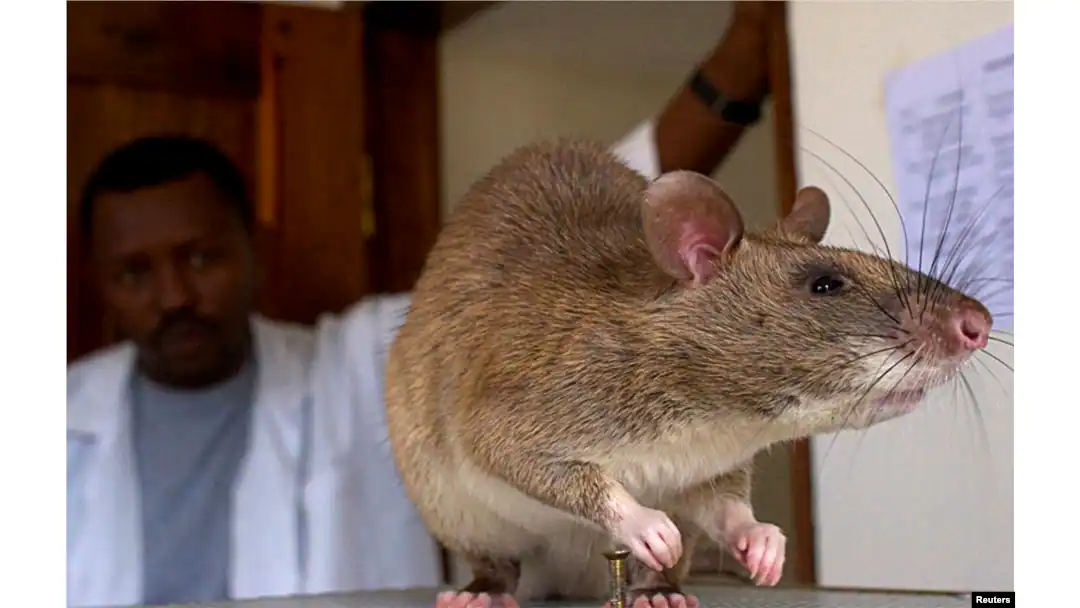Rat: (405, 148, 997, 603)
